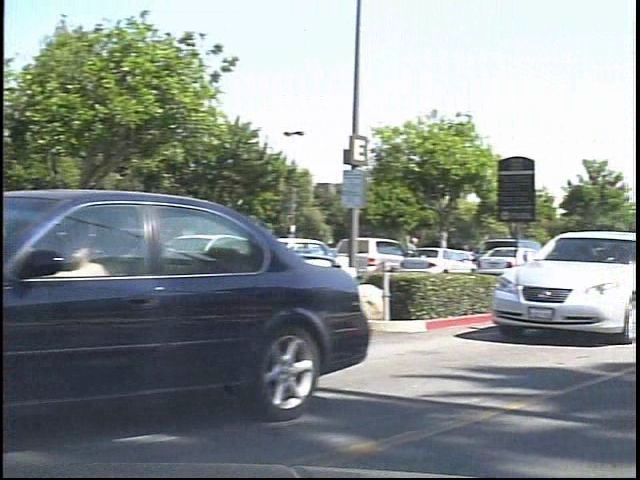person: (411, 231, 438, 283)
